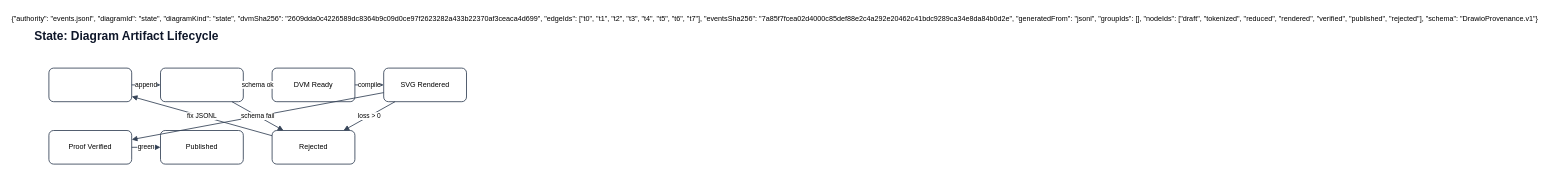
Image size: 1548x175. Some labels were removed from this diagram. Each missing label, with the centre of its shape:
"Draft JSONL" goes at point (90, 84).
"Tokenized" goes at point (201, 84).
